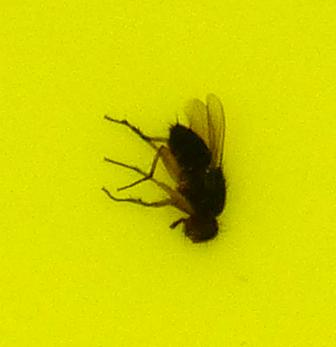Brachycera: (100, 100, 236, 247)
